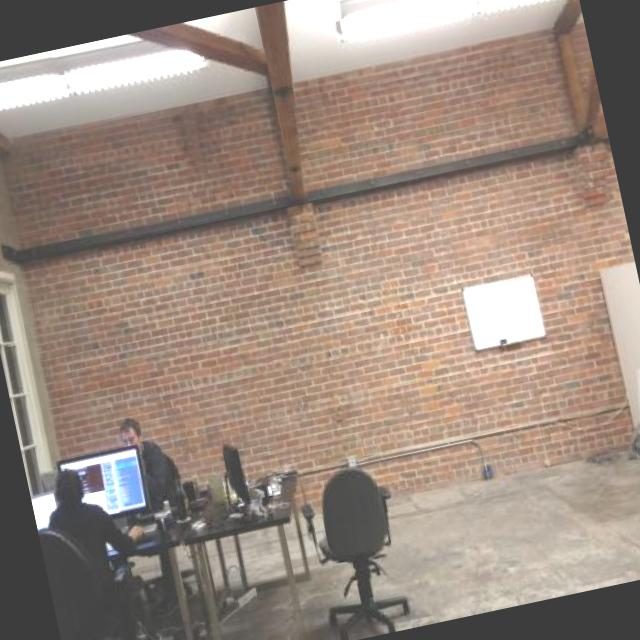Person: (39, 451, 148, 640), (115, 410, 205, 620)
